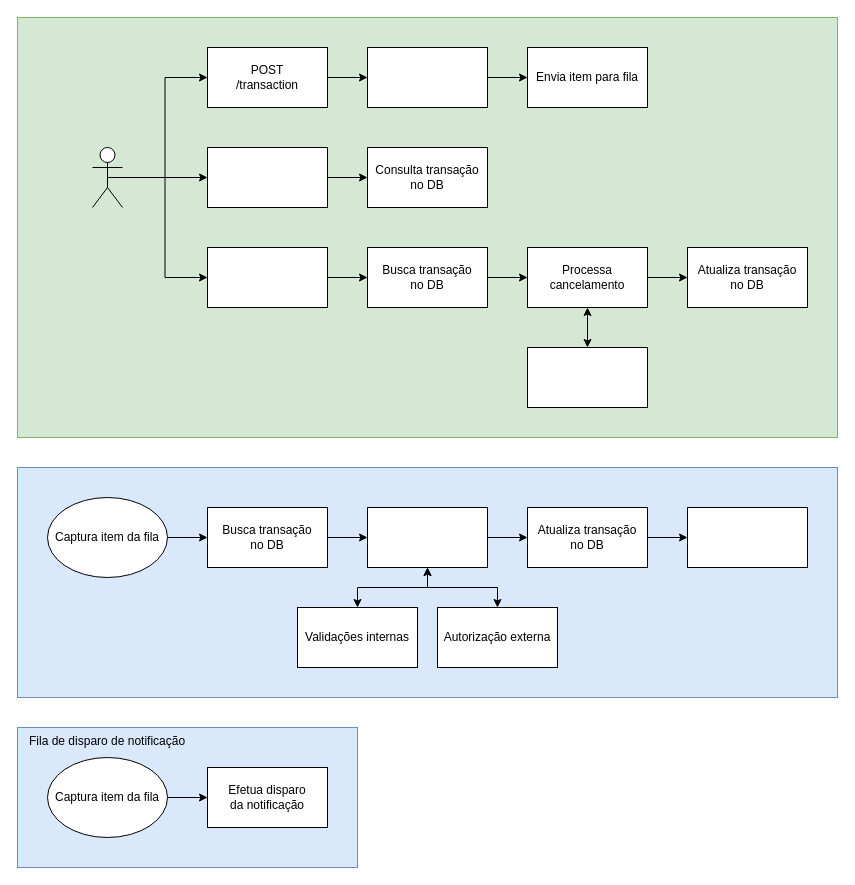
This 855x885 diagram has some shape labels left out. Here are the shapes that lost their labels. From the top down, the box of each, then its label:
(366, 46, 488, 108): Grava transação no DB
(206, 146, 328, 208): GET /transaction/<id>
(206, 246, 328, 308): DELETE /transaction/<id>
(526, 346, 648, 408): Devolve saldo
(366, 506, 488, 568): Processa transação
(686, 506, 808, 568): Envia notificação para fila
(16, 466, 838, 698): Fila de processamento de transferência
